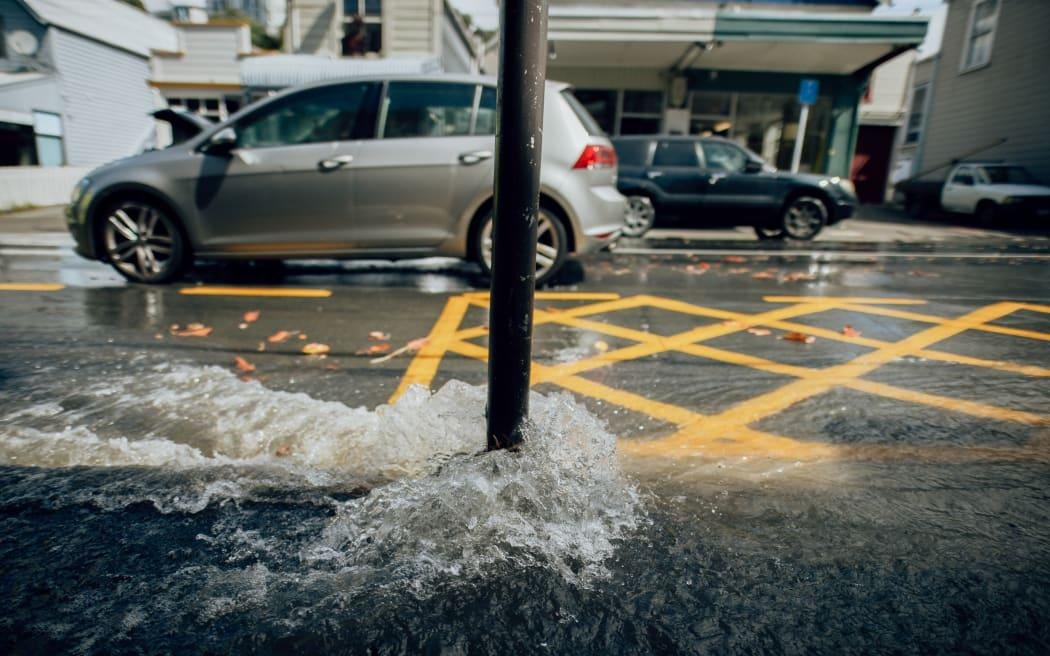water_leak: (0, 320, 642, 646)
